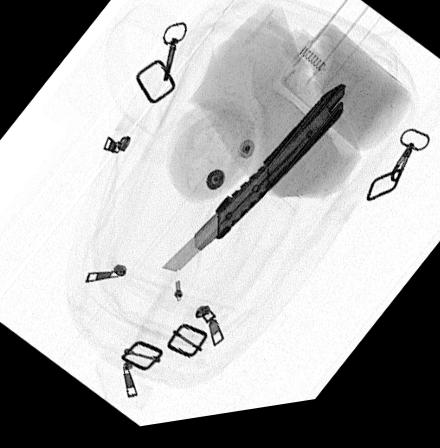Knife: (162, 92, 349, 277)
